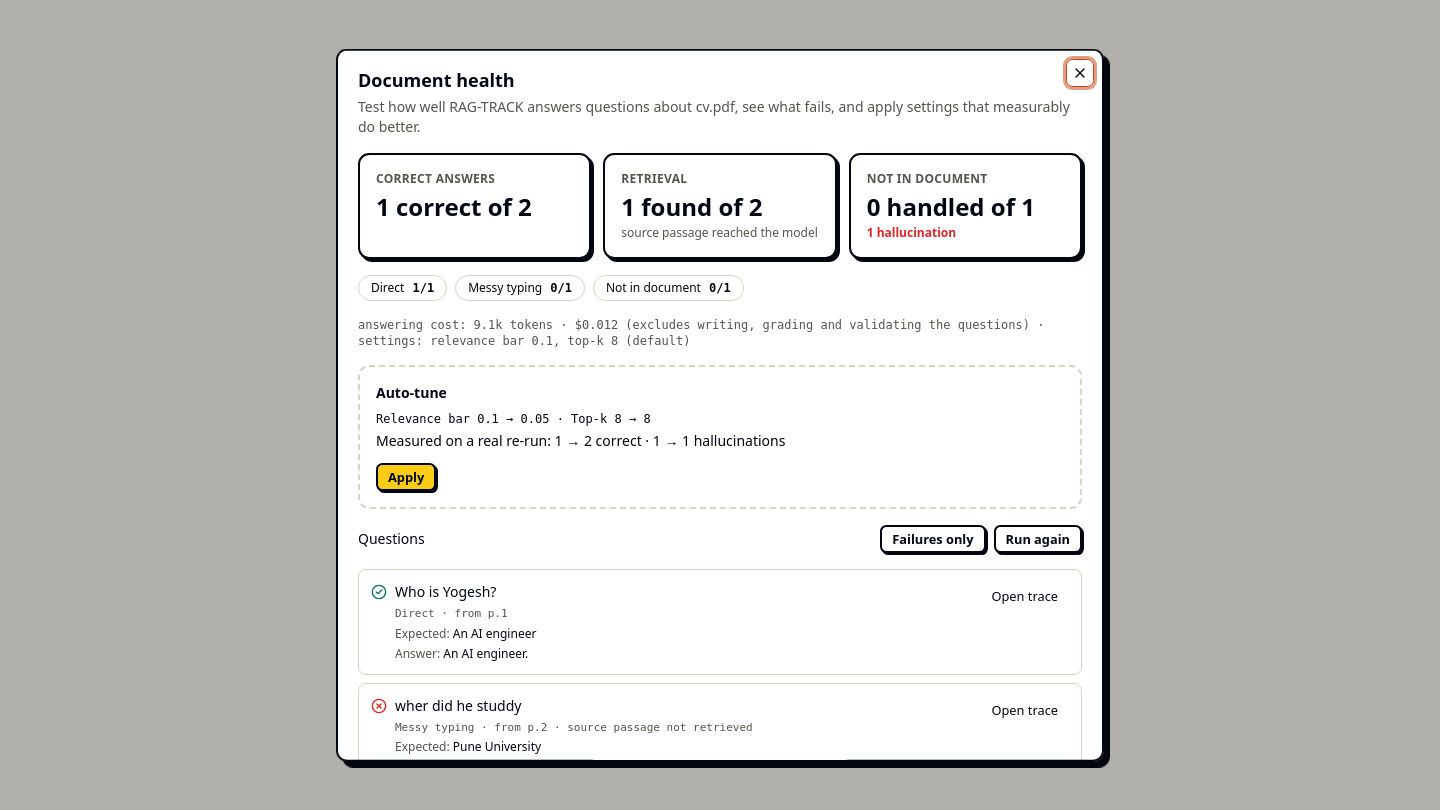
it: failures-only filter hides the passing question
Click the button "Failures only" at (933, 539), box [880,525,986,553]
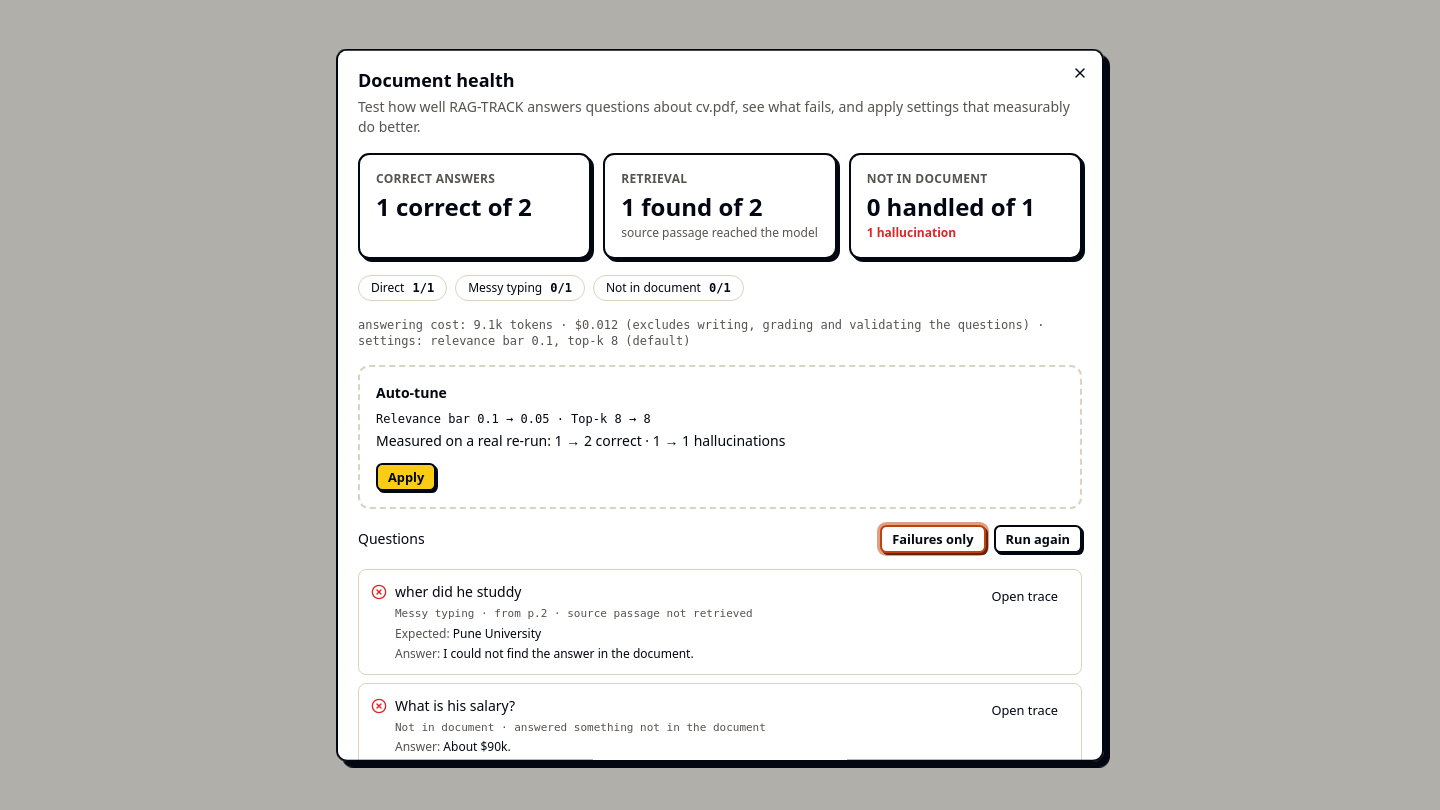
Result: the text "Who is Yogesh?" is gone
